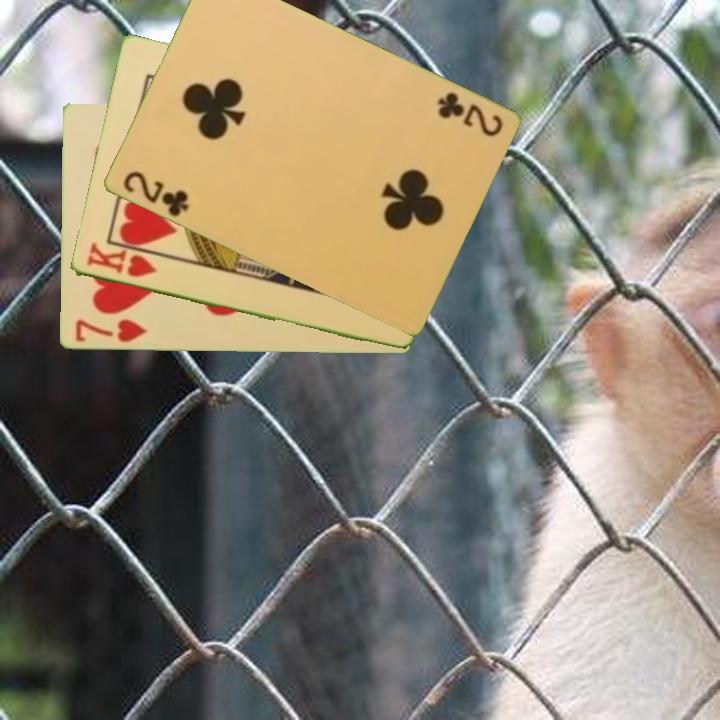2c: (119, 167, 191, 220), (433, 89, 506, 140)
7h: (72, 316, 150, 346)
Kh: (82, 240, 159, 281)
